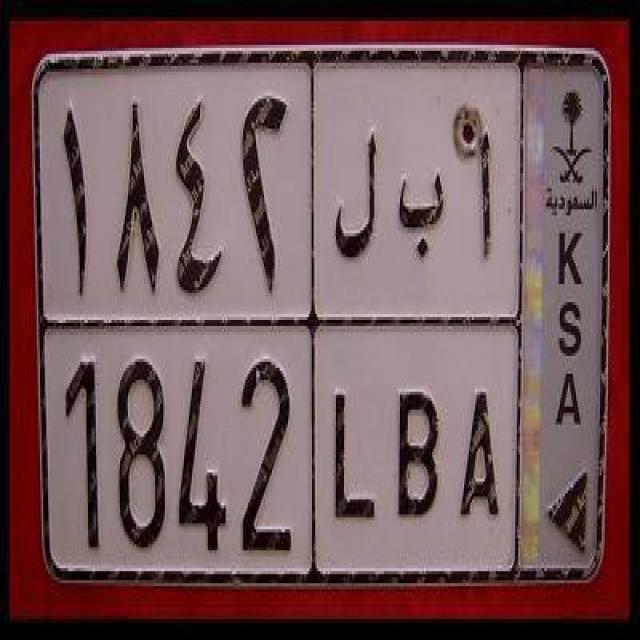license_plate: (44, 44, 606, 578), (39, 314, 524, 584)
